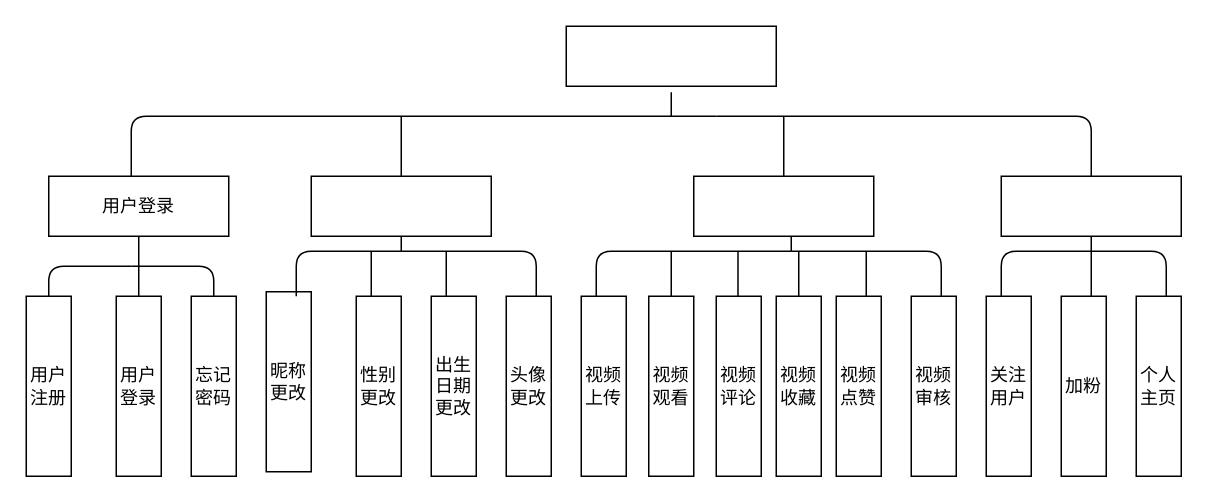
The diagram is 1208 pixels wide and 503 high, and some of its shapes have lost their labels. The centre of each missing label's shape, as x and y in pixels:
基于web的短视频平台: the point at 670,55
用户: the point at 1090,205
用户信息更改: the point at 400,205
视频: the point at 783,205
